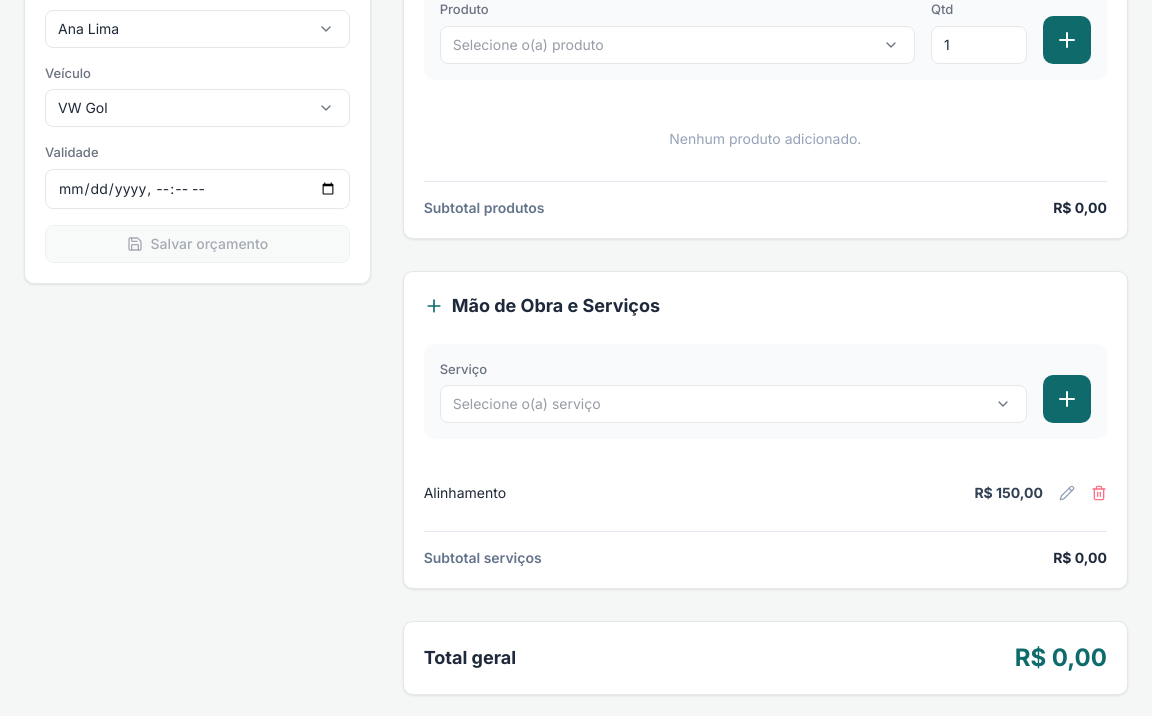
<BudgetEdit> — editar item já lançado › dá desconto num serviço mudando o valor na própria linha
(page scrolled)
Click the button named "Editar Alinhamento" at [1067, 493], box [1059, 485, 1075, 501]
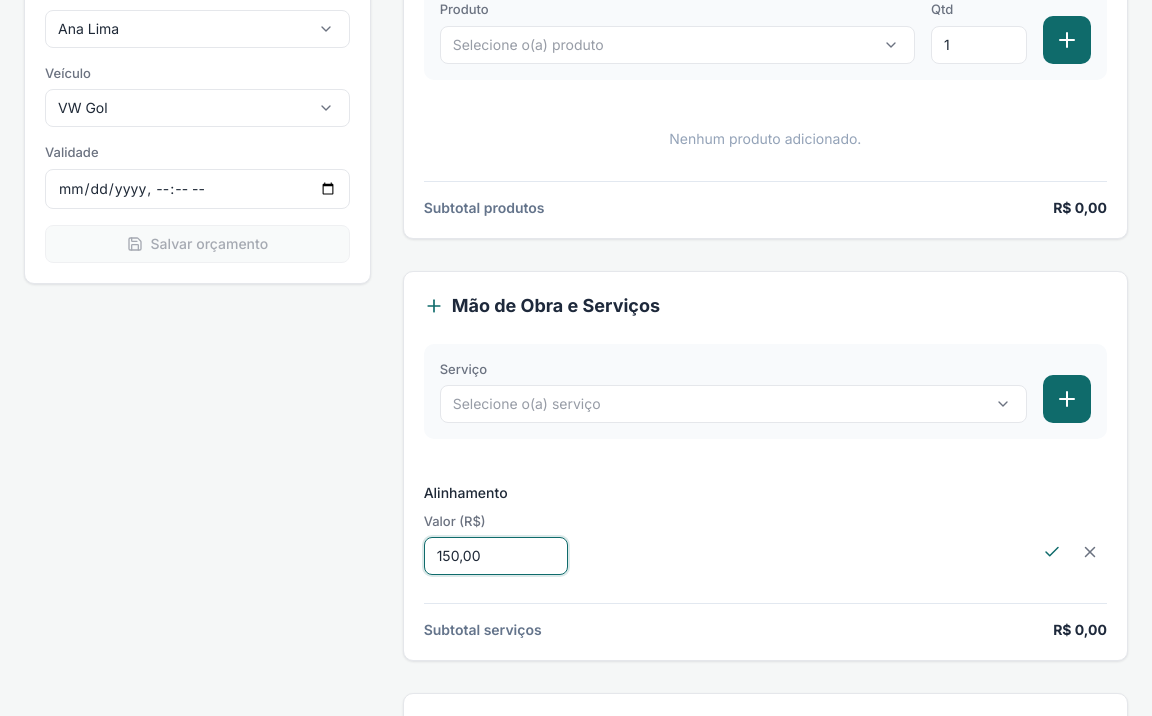
Replace the text in the field labelled "Valor (R$)" with "120,00" at [496, 556], box [424, 537, 568, 575]
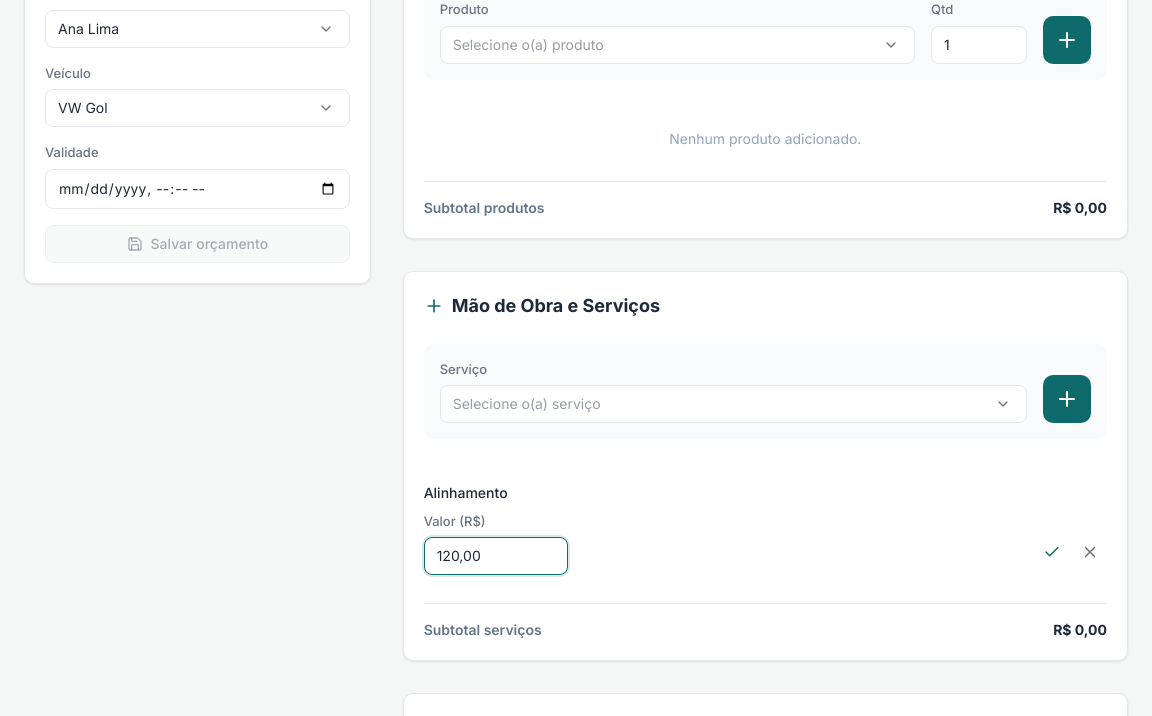
Click the button named "Salvar item" at [1052, 552], box [1035, 535, 1069, 569]
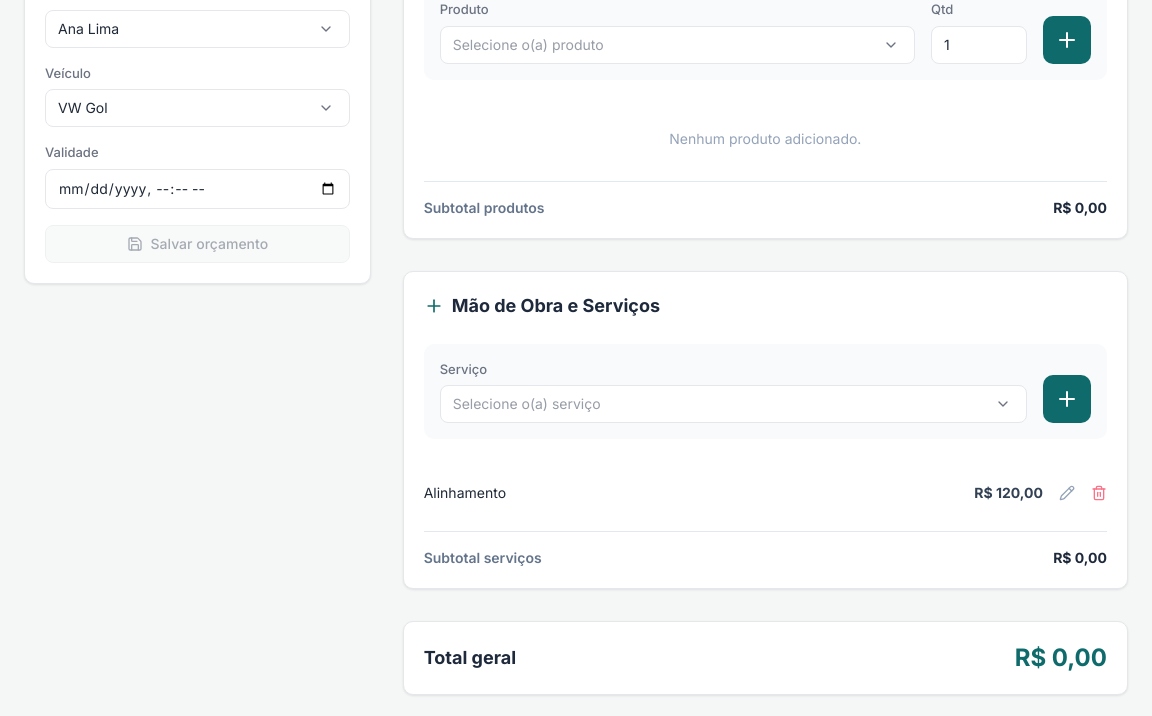
Expected: the text "R$ 120,00" is shown, [974, 483, 1043, 503]
